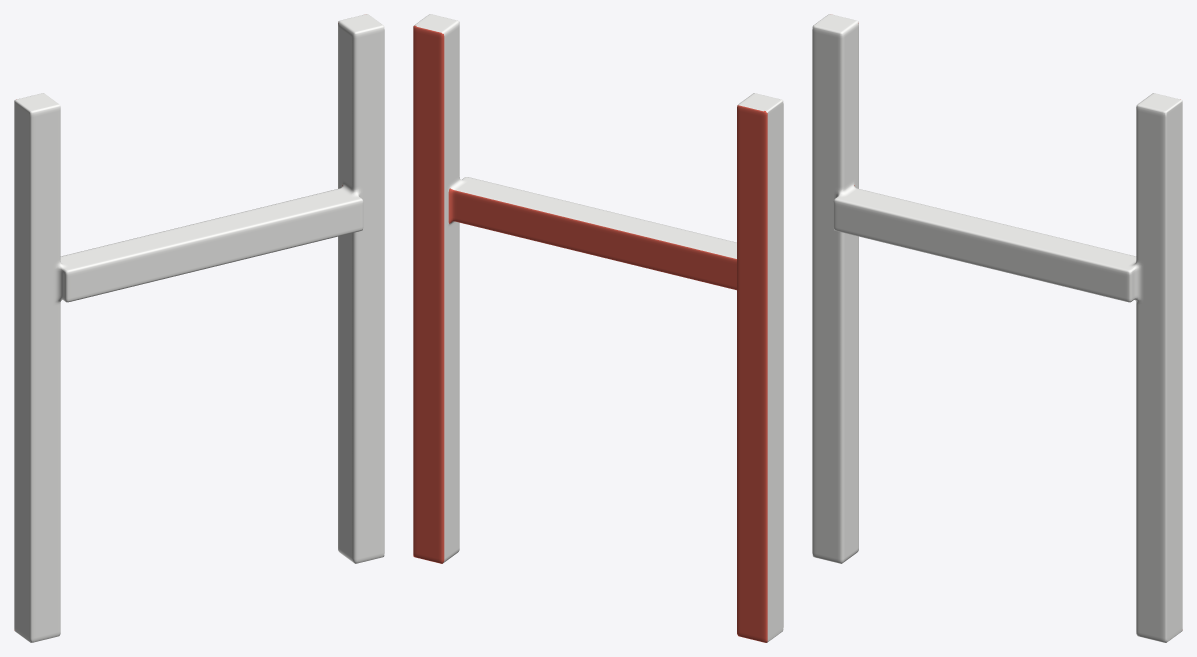
Rendered from garage-land-for-sale-sign.glb.
3 renders of one model, left to right at view 1: azimuth 30°, elevation 25°; view 2: azimuth 150°, elevation 25°; view 3: azimuth 330°, elevation 25°, orthographic.
Visible parts, largest first — view 1: PostL; view 2: PostL; view 3: PostL.
Boxes of the visible parts, <box> form: PostL: <box>14,14,384,642</box>; PostL: <box>413,14,783,642</box>; PostL: <box>812,14,1182,642</box>.
Size of the model in its own units: 1.15 by 1.65 by 0.14.
Materials: 2 (1 with a texture image).
